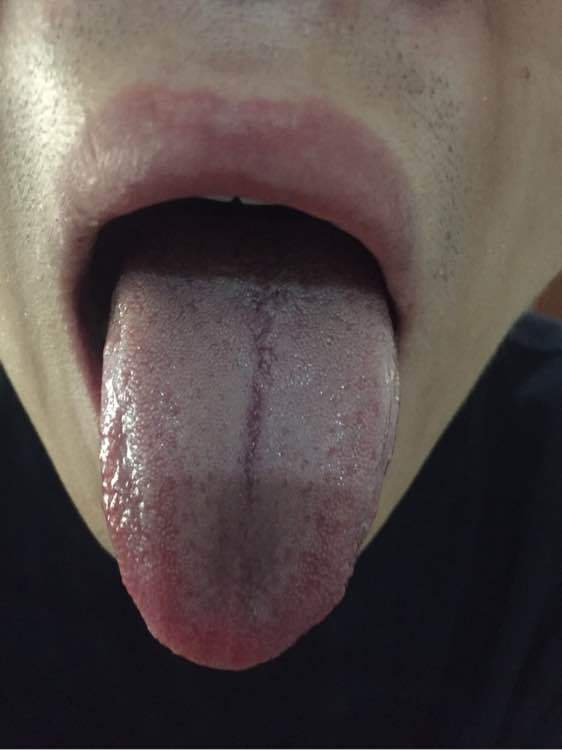baitaishe: (100, 251, 397, 670)
liewenshe: (238, 302, 277, 513)
shoushe: (100, 252, 397, 671)
